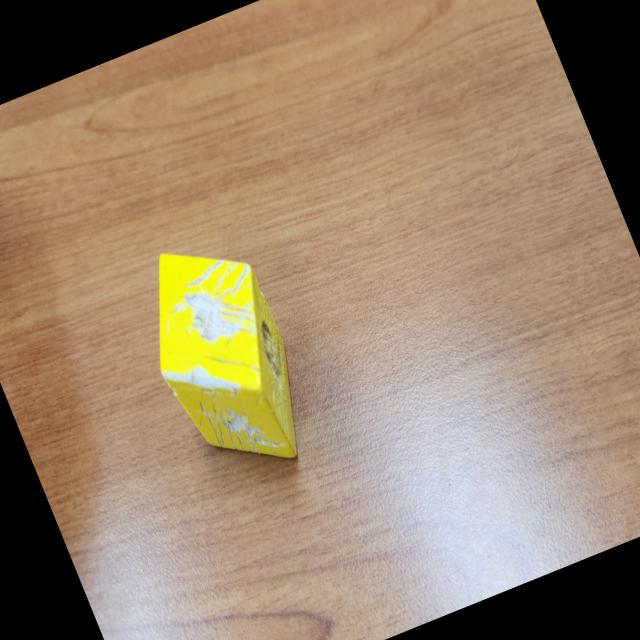broken: (118, 222, 326, 494)
